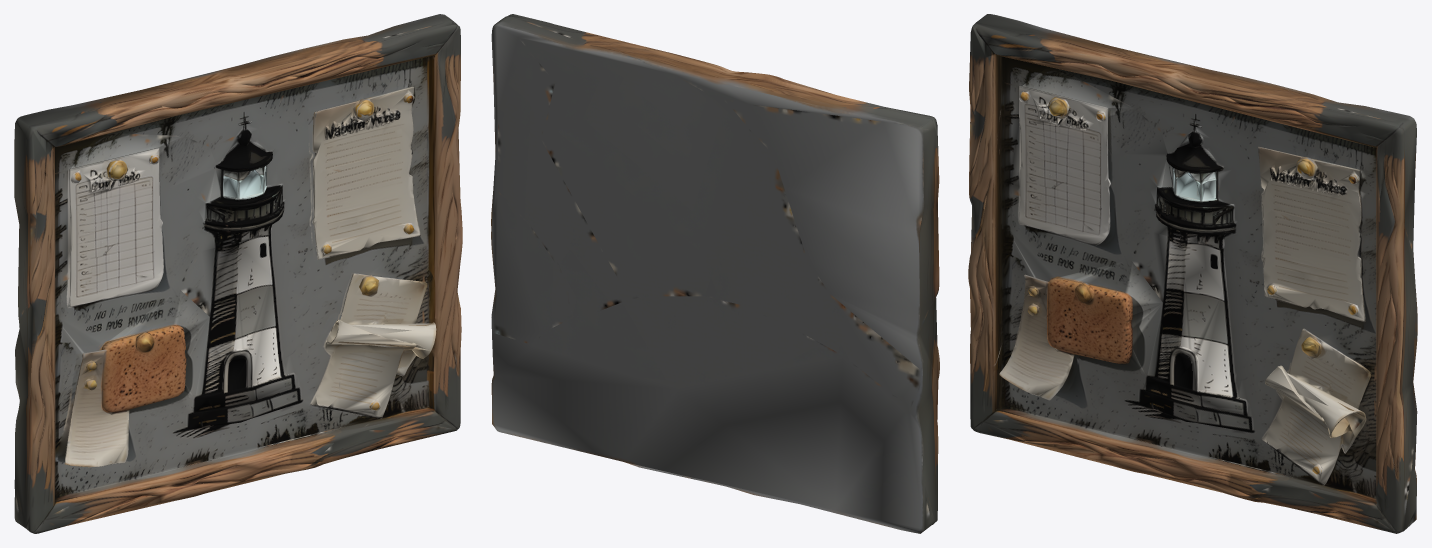
Rendered from lhi_notice_board.glb.
The picture shows the model from 3 angles, left to right: view 1: azimuth 30°, elevation 25°; view 2: azimuth 150°, elevation 25°; view 3: azimuth 330°, elevation 25°; orthographic projection.
Visible parts, largest first — view 1: material; view 2: material; view 3: material.
Part boxes in pixels (<box>): material: <box>14,14,462,533</box>; material: <box>491,14,939,533</box>; material: <box>968,14,1417,533</box>.
Bounding box in the file's own units: 0.8976 × 0.8101 × 0.1308.
1 material, 1 textured.
